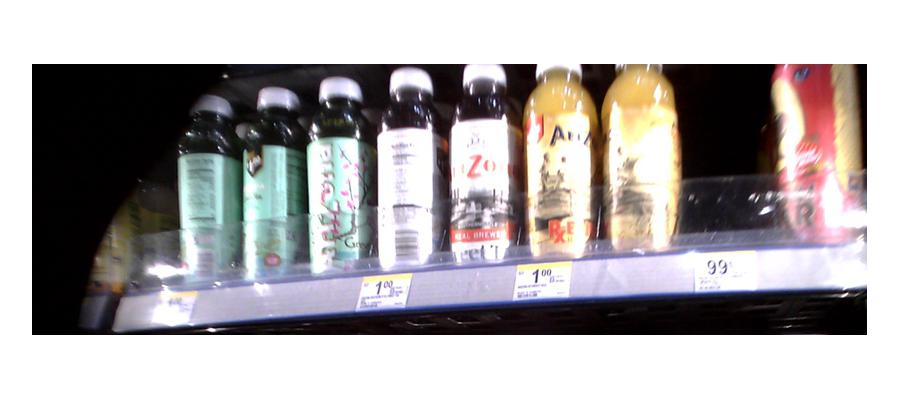bottle: (600, 62, 683, 252), (775, 63, 858, 242), (523, 59, 596, 257), (374, 67, 442, 268), (447, 65, 515, 265), (305, 77, 371, 269), (240, 88, 303, 277), (175, 95, 238, 284)
